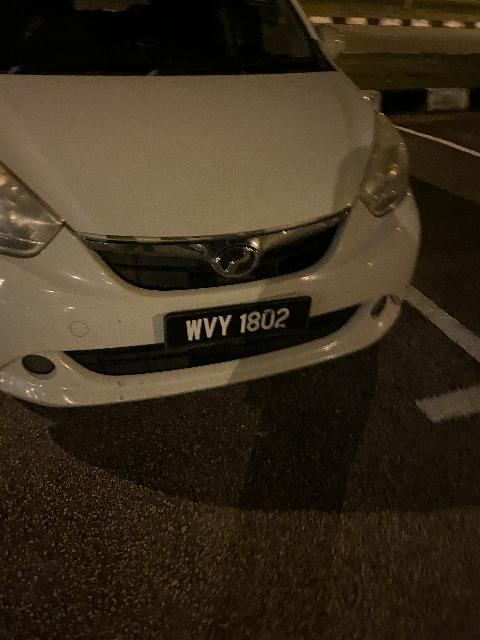License_Plate: (164, 292, 315, 360)
car: (2, 1, 427, 423)
